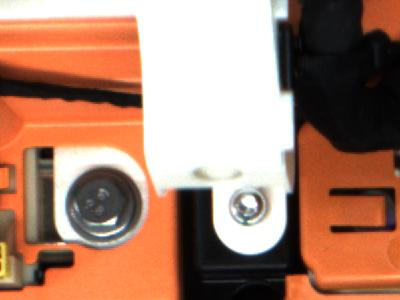nut_b: (56, 159, 147, 248)
